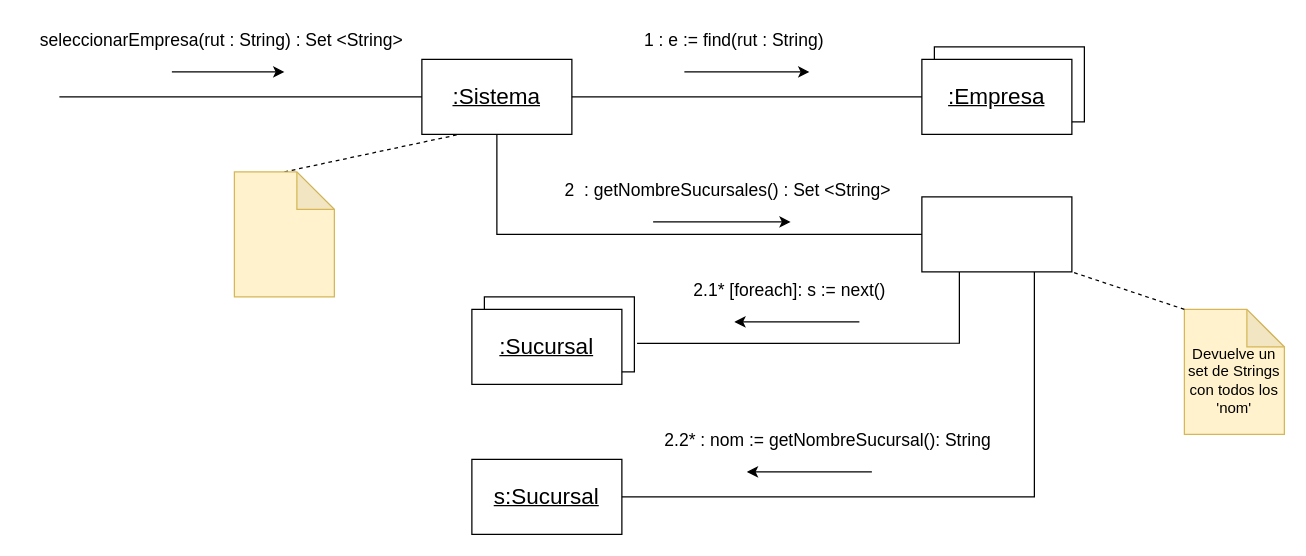
Some shapes in this 1306 by 556 pixel diagram are drawn without their labels. The centre of each missing label's shape, as x and y in pixels:
e:Empresa: pixel 996 234
El sistema recuerda la Empresa 'e': pixel 283 234
